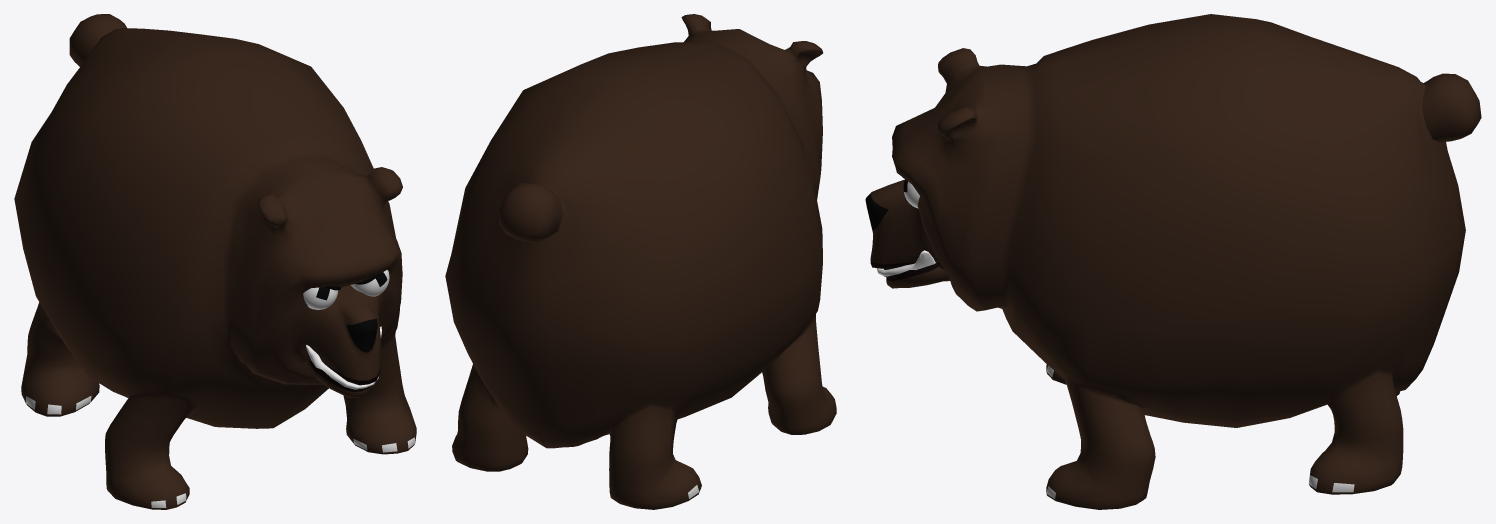
The model's file is CC_bear.FBX.
3 renders of one model, left to right at view 1: azimuth 30°, elevation 25°; view 2: azimuth 150°, elevation 25°; view 3: azimuth 270°, elevation 25°, orthographic. The views are drawn at different scales.
Visible parts, largest first — view 1: Box002, Box001; view 2: Box002; view 3: Box002.
Boxes of the visible parts, x1,y1,x2,y2 form: Box002: (14,14,416,509); Box001: (303,270,389,309); Box002: (445,14,836,509); Box002: (865,14,1481,509).
Bounding box in the file's own units: 56.1 × 66.73 × 93.03.
